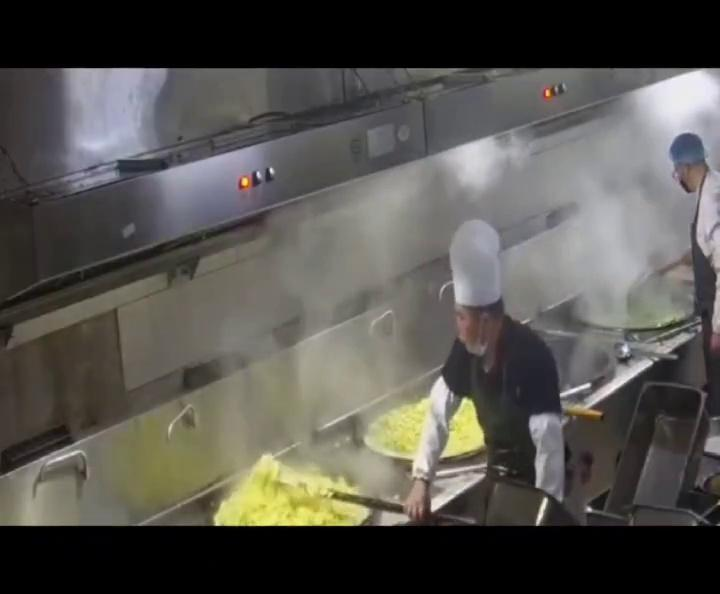mask: (454, 315, 498, 355)
